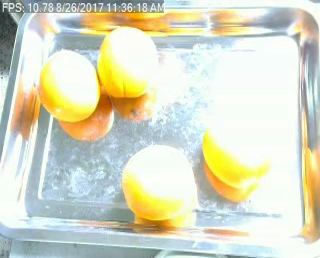Orange: (122, 143, 200, 220), (200, 116, 272, 187), (39, 49, 100, 121), (97, 26, 156, 98)
